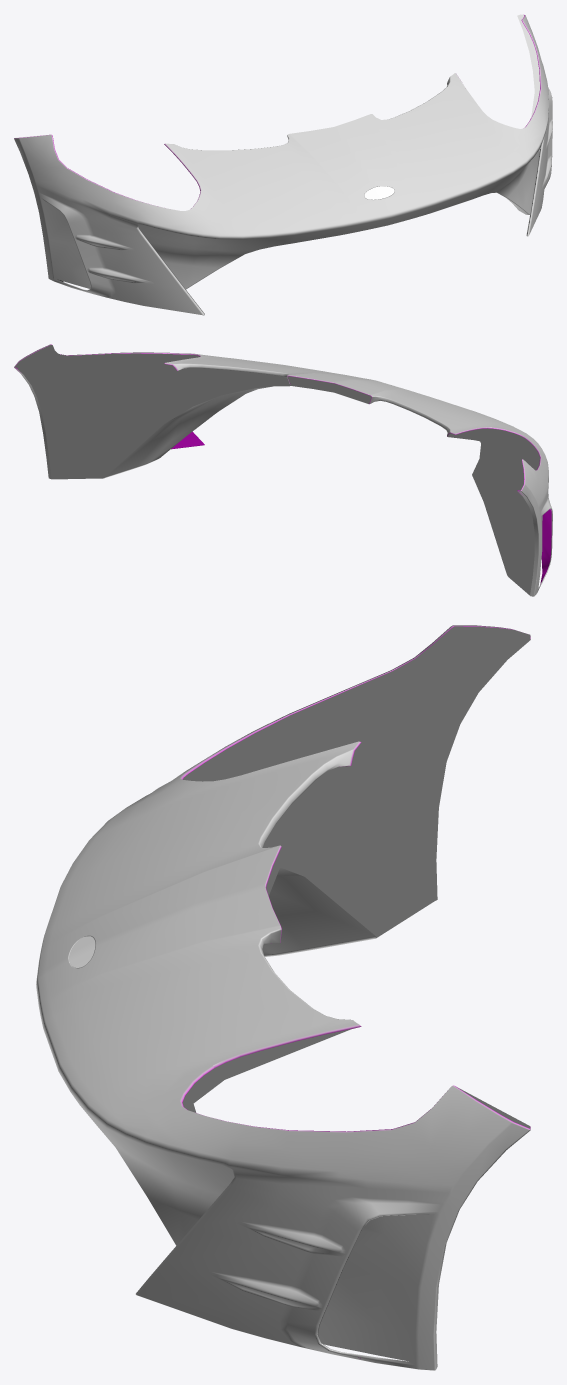
The model's file is Car_Ford_GT_2017_BumperF_SetB.fbx.
The picture shows the model from 3 angles, top to bottom: view 1: azimuth 30°, elevation 25°; view 2: azimuth 150°, elevation 25°; view 3: azimuth 270°, elevation 25°; orthographic projection. The views are drawn at different scales.
Visible parts, largest first — view 1: BumperF 6; view 2: BumperF 6; view 3: BumperF 6.
Boxes of the visible parts, x1,y1,x2,y2 form: BumperF 6: (14, 14, 552, 315); BumperF 6: (14, 344, 552, 596); BumperF 6: (36, 625, 530, 1370).
Size of the model in its own units: 1.95 by 0.5165 by 0.8236.
